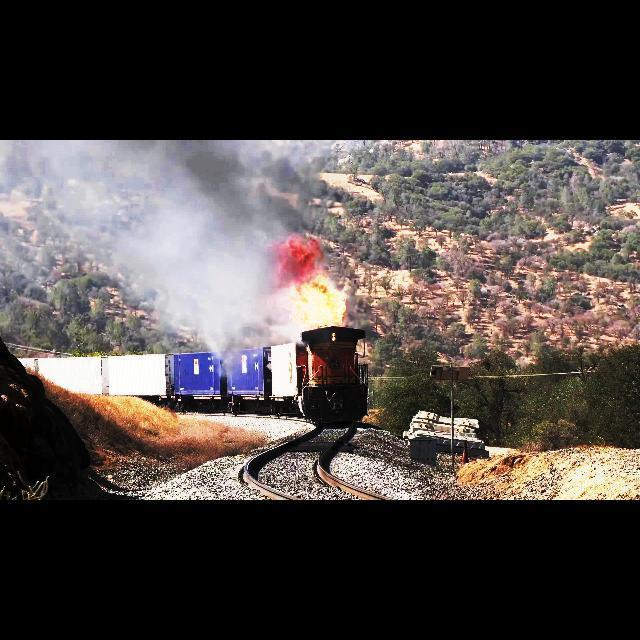Fire: (276, 238, 350, 324)
Smoke: (144, 140, 266, 292)
